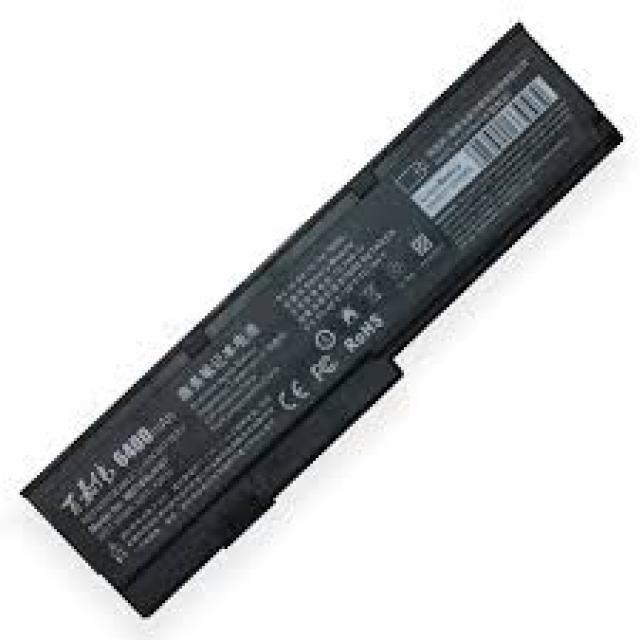battery: (21, 22, 624, 625)
